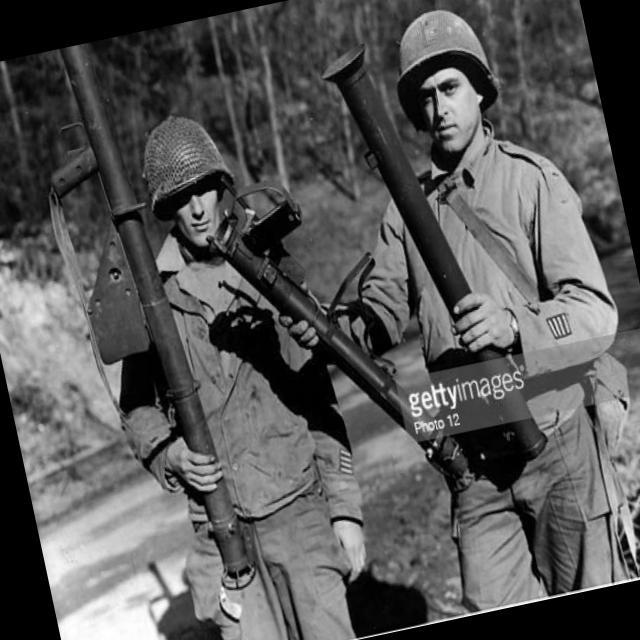rocket: (322, 19, 544, 474)
